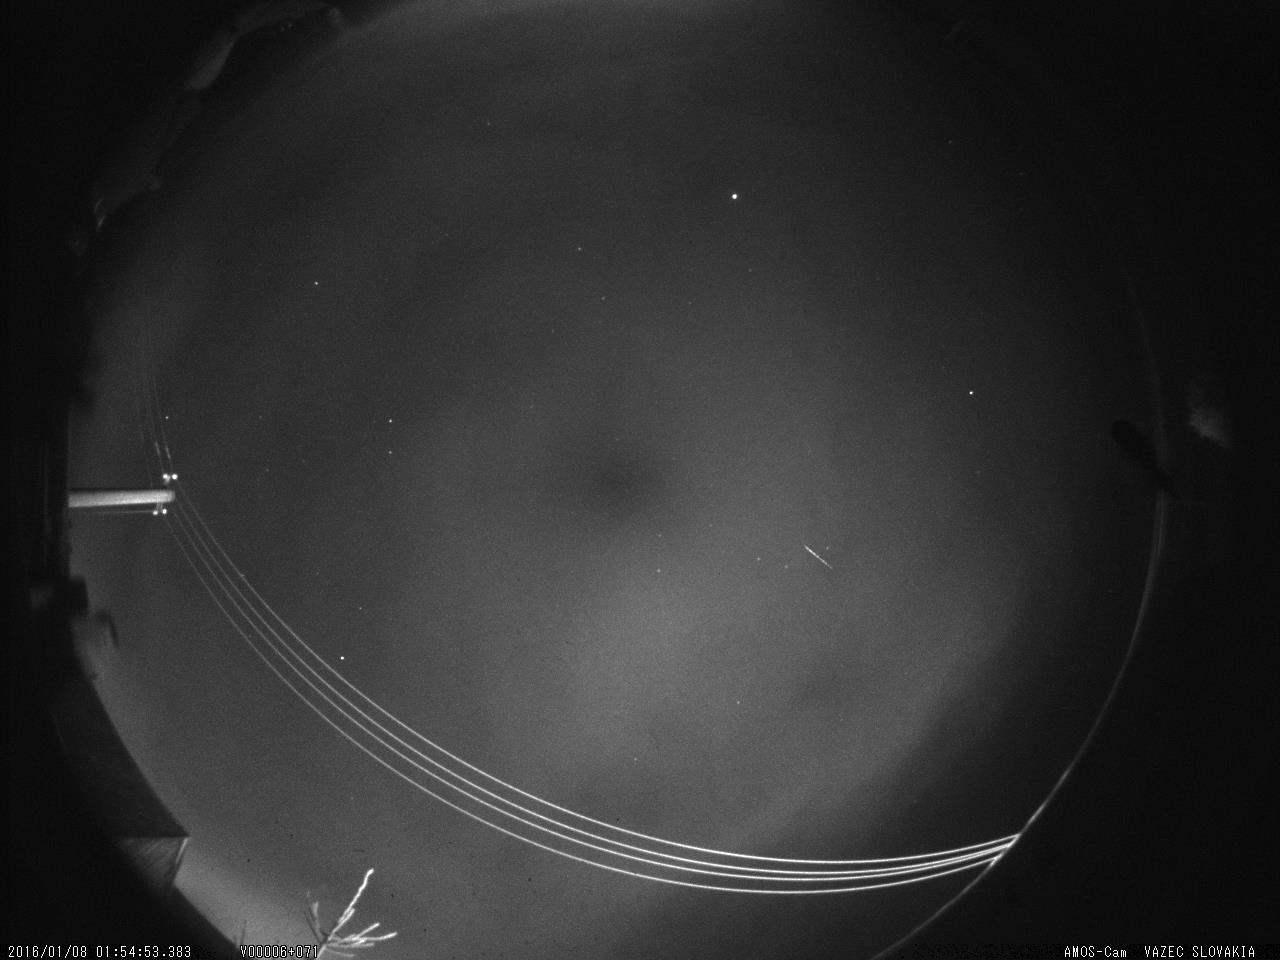meteor: (796, 532, 848, 583)
